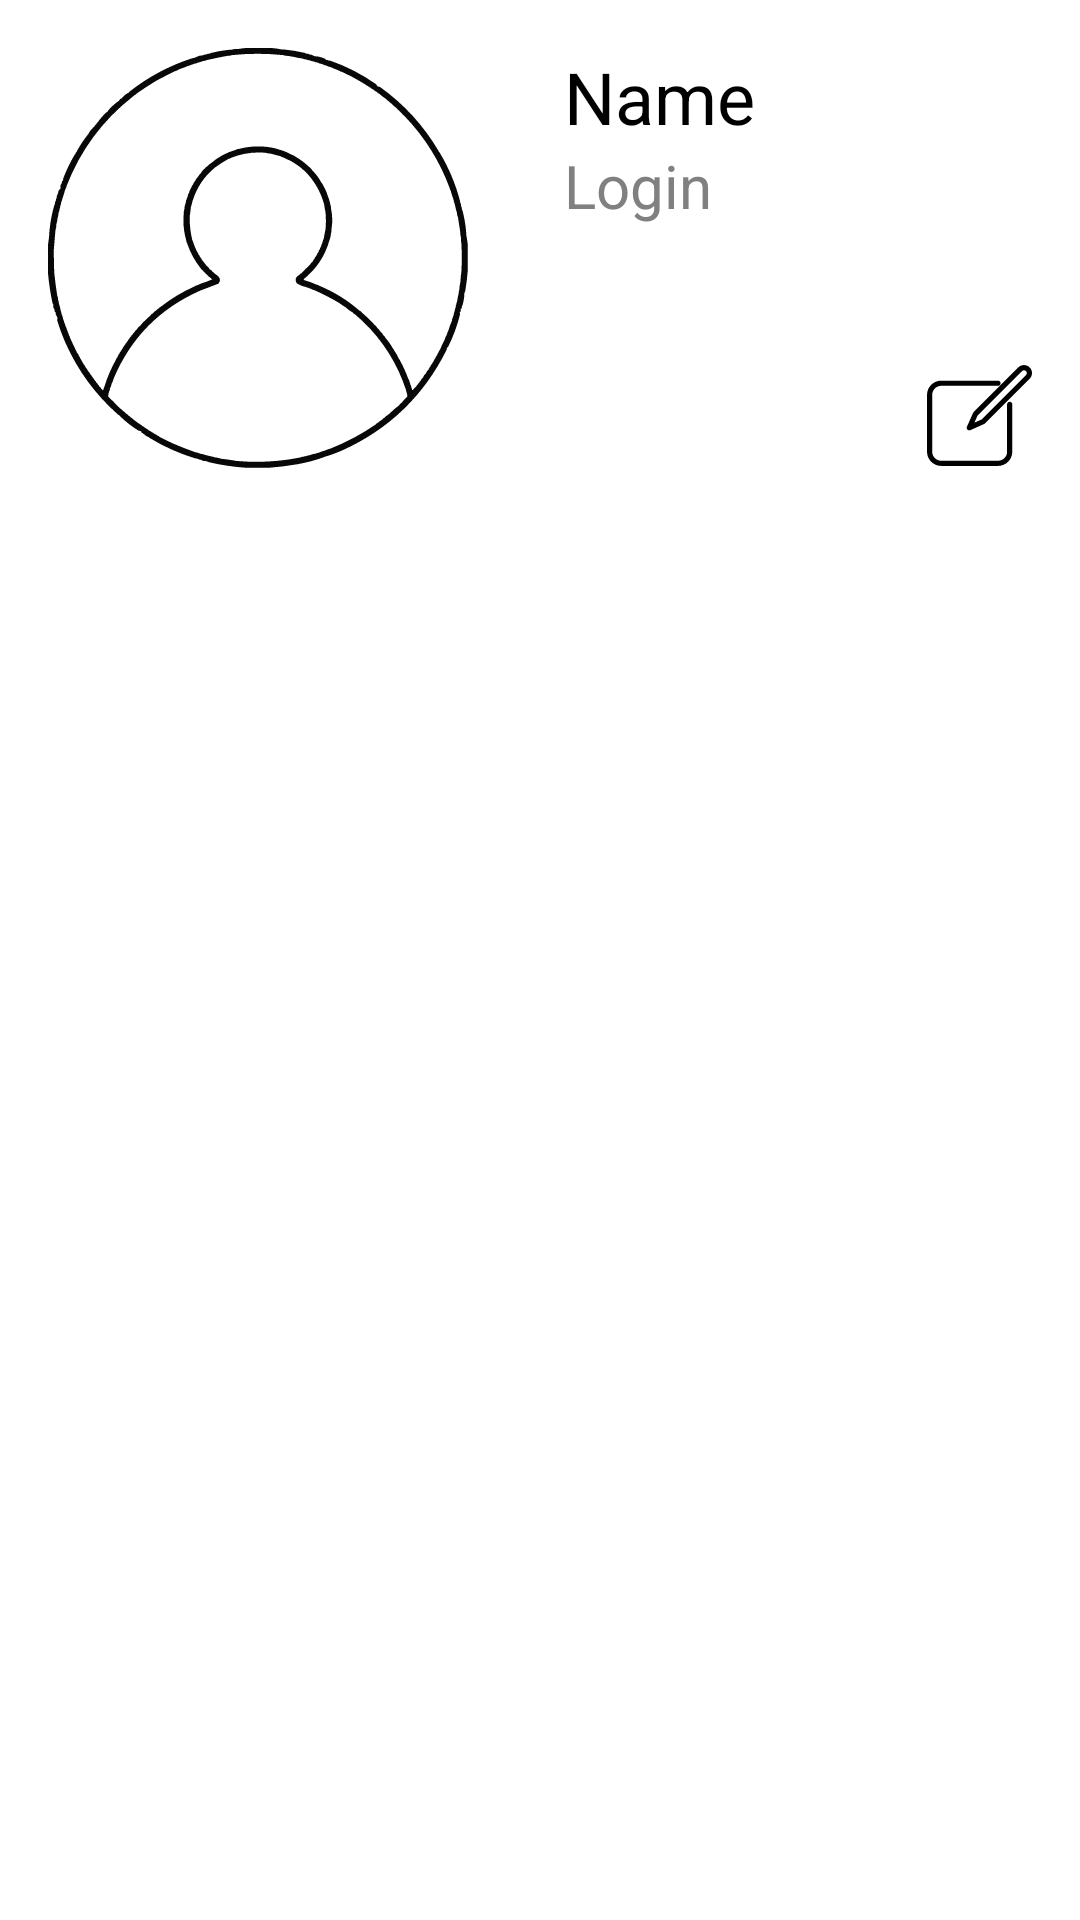

Named icons in this screenshot (1080px×1920px) and their centers, (x,y):
Edit account button: (979,415)
